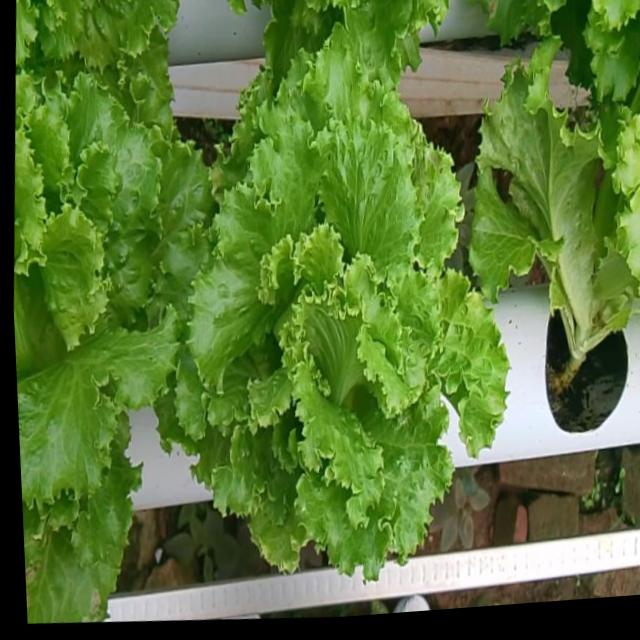Mature: (179, 56, 514, 596), (14, 82, 214, 526)
